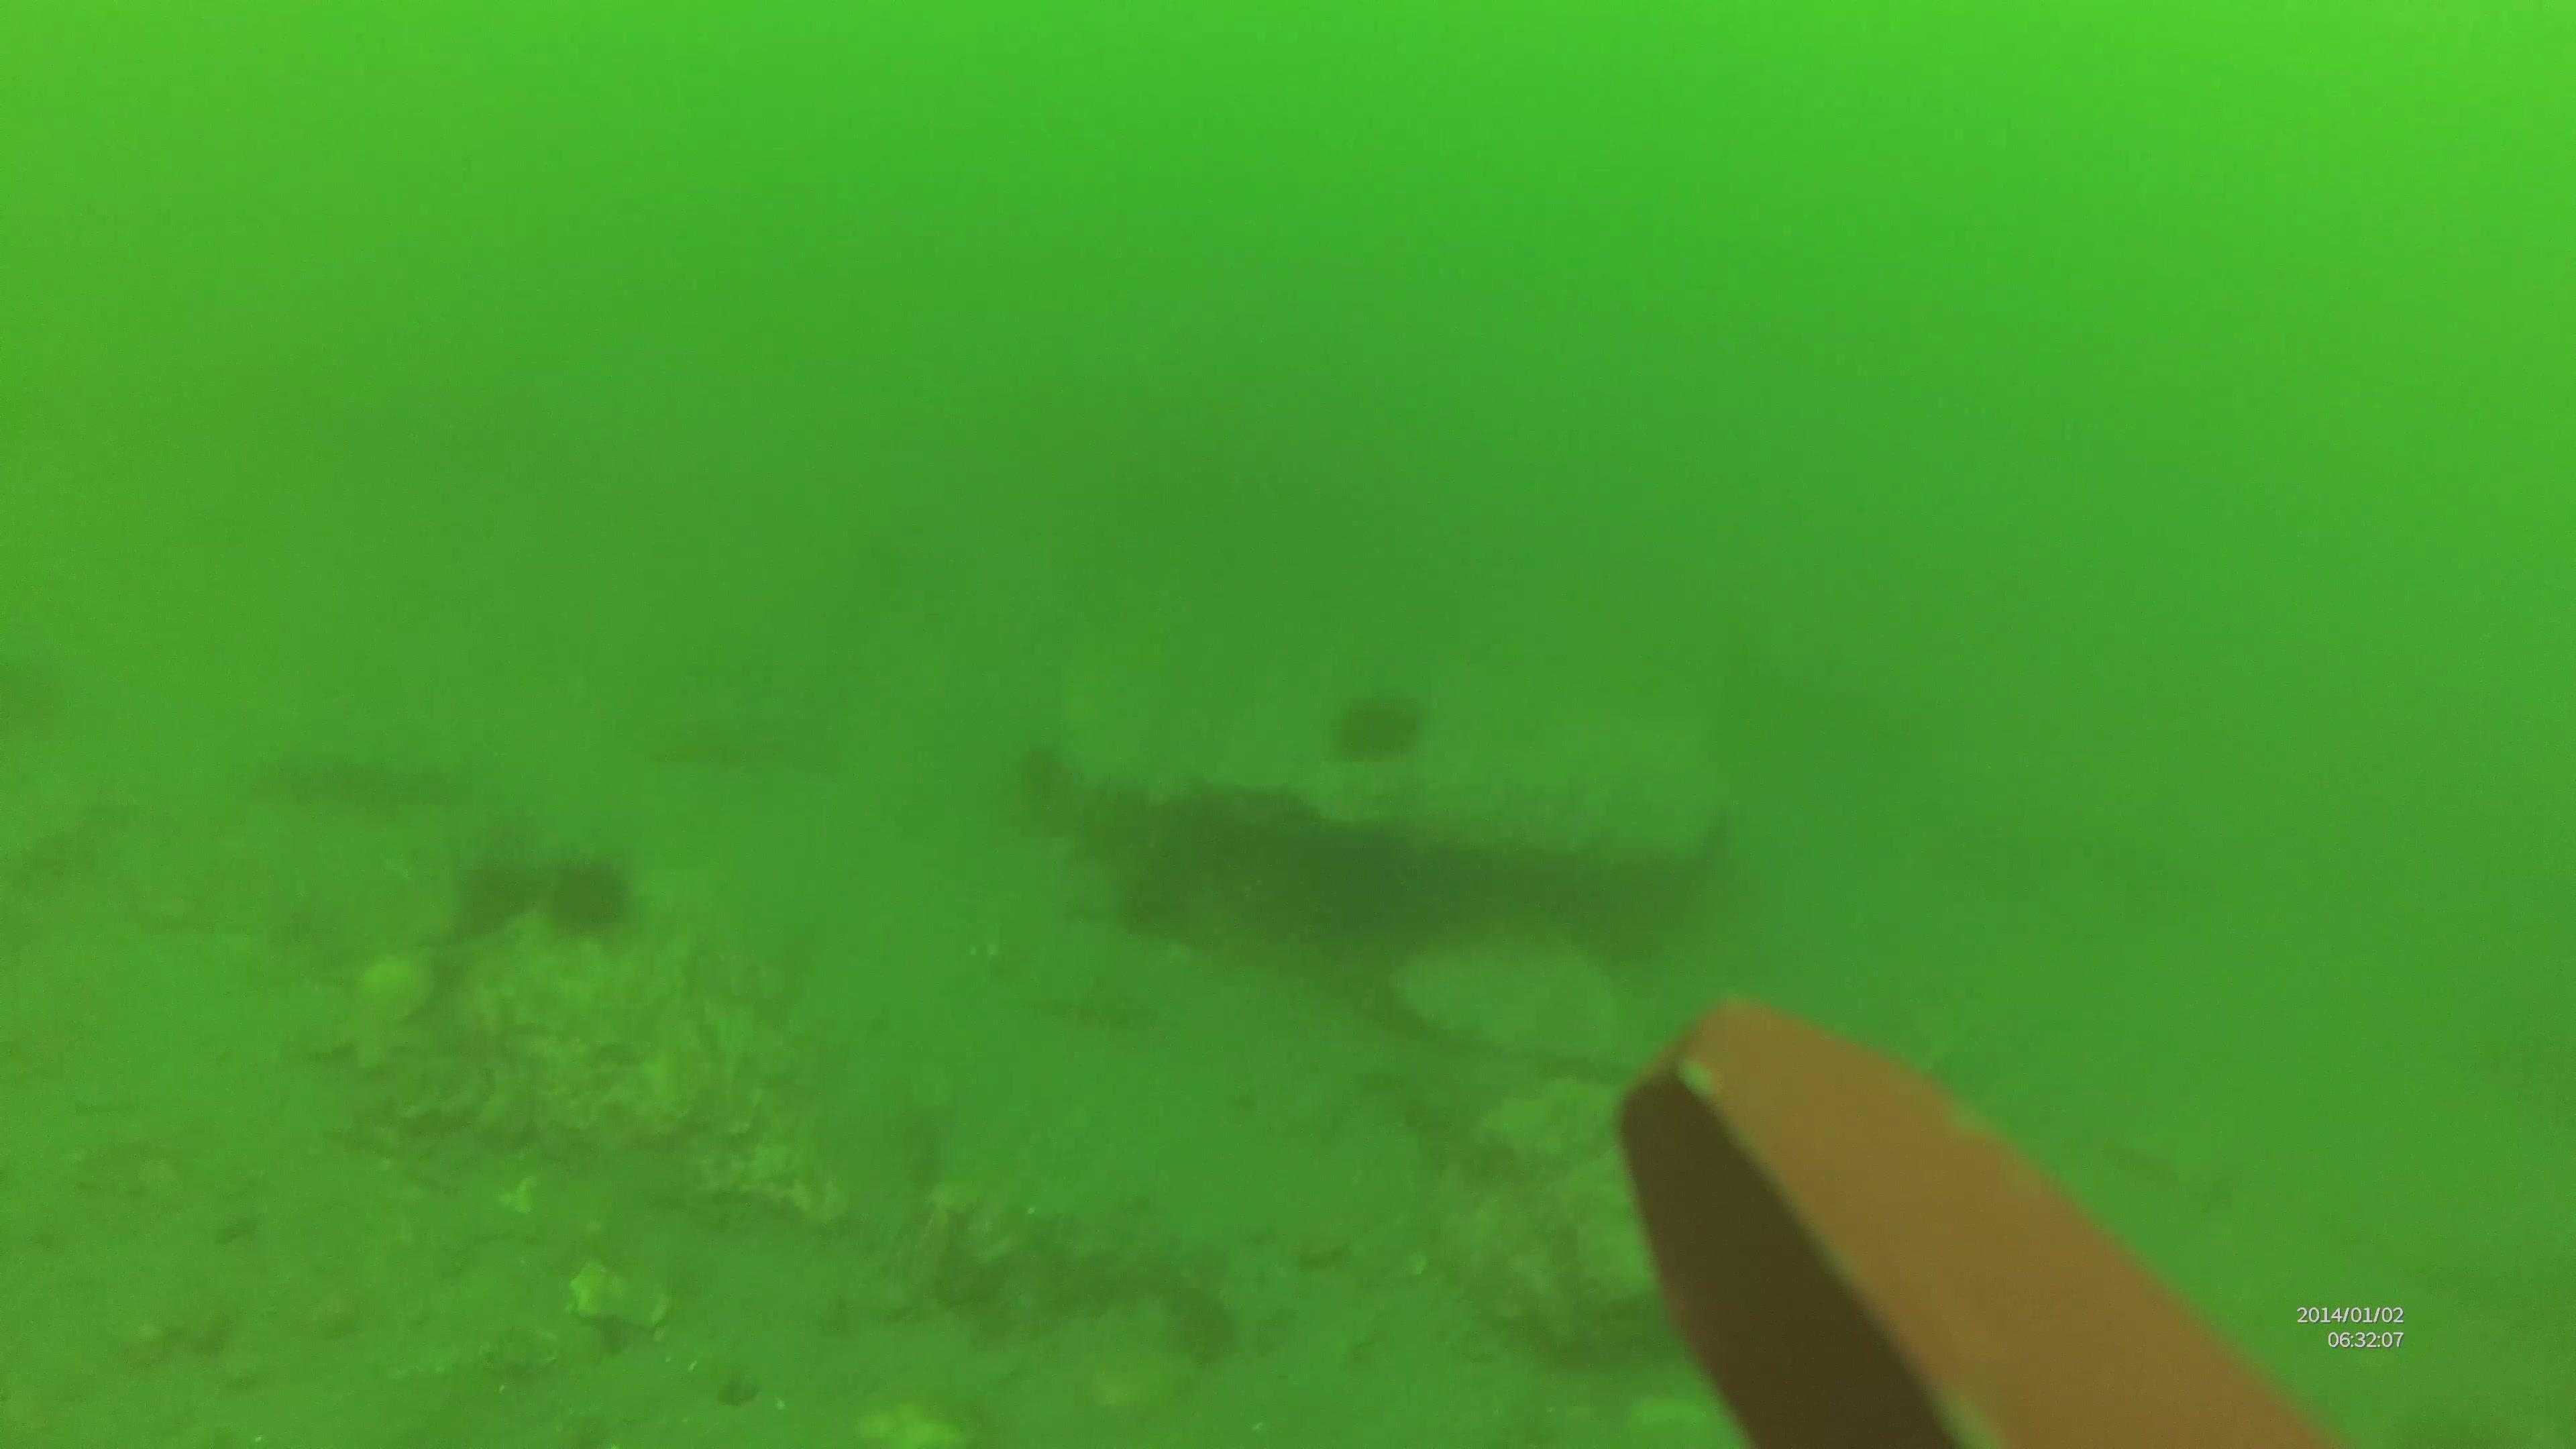echinus: (548, 855, 640, 932), (1334, 690, 1419, 764), (456, 867, 536, 943), (1115, 872, 1187, 932), (1021, 748, 1079, 800)
scallop: (350, 955, 437, 1030)
